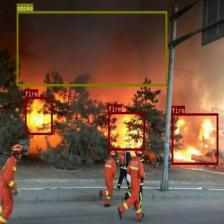fire: (171, 113, 218, 164), (108, 112, 144, 150), (25, 97, 52, 134)
smoke: (17, 11, 166, 86)
